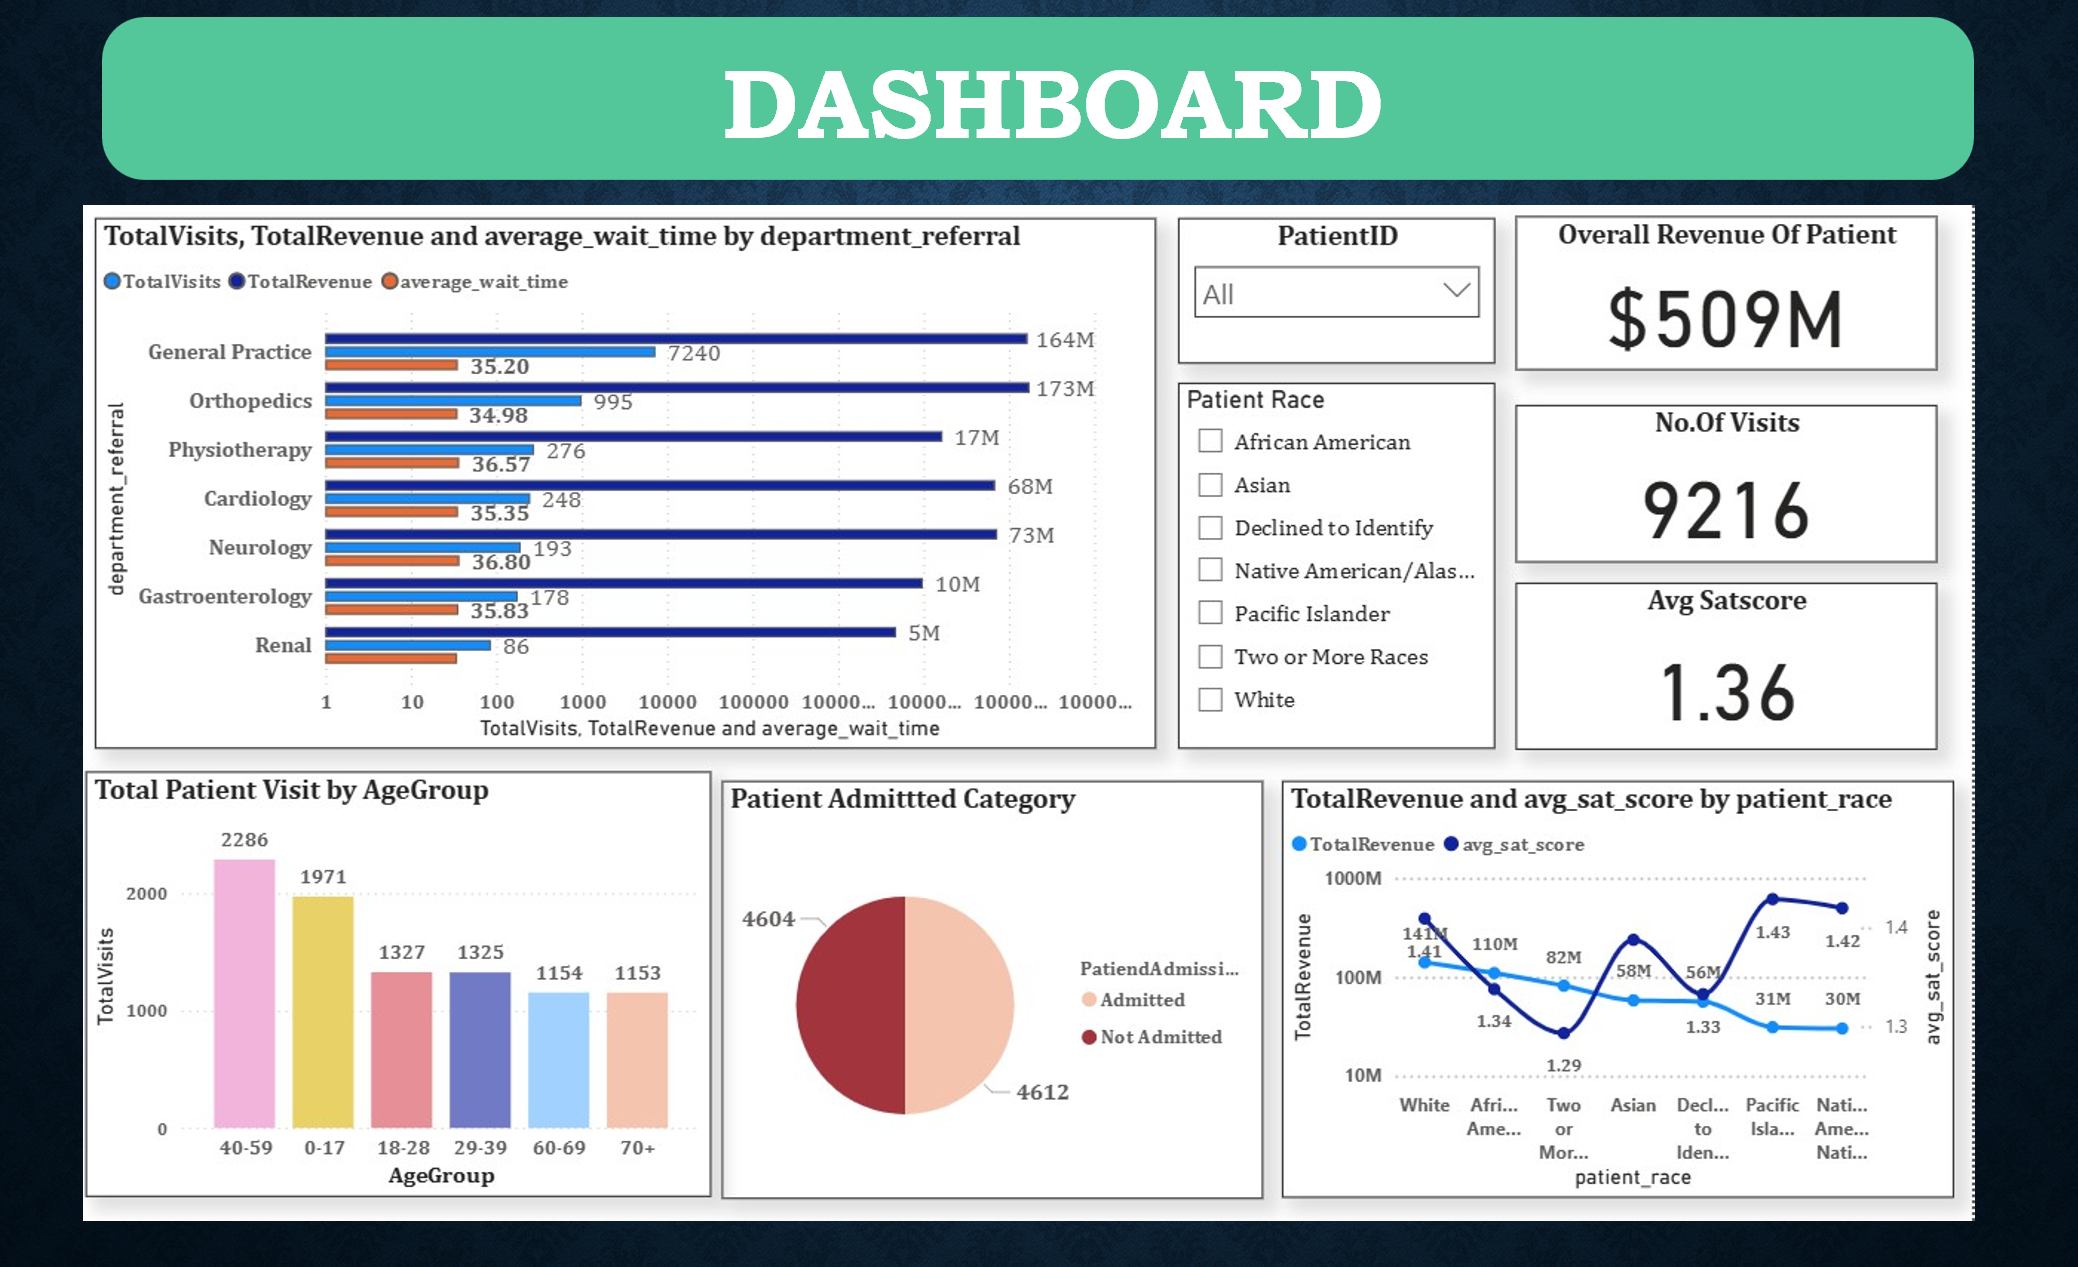

This screenshot's page, from the dashboard's own definition file:
{"tool":"powerbi","page":{"name":"Patients tab","canvas":[1280,720],"ordinal":2},"visuals":[{"type":"slicer","title":"PatientID","fields":{"Values":["Hospital ER (1).patient_id"]},"box":[745,13.8,213.8,98.8],"z":0},{"type":"clusteredBarChart","fields":{"Category":["Hospital ER (1).department_referral"],"Y":["Sheet1.TotalVisits","Sheet1.TotalRevenue","Hospital ER (1).average_wait_time"]},"box":[15,13.8,715,358.8],"z":1000},{"type":"pieChart","title":"Patient Admittted Category","fields":{"Category":["Hospital ER (1).PatiendAdmission"],"Y":["Hospital ER (1).CountOfPatientsAdmitted"]},"box":[437.5,393.8,365,282.5],"z":2000},{"type":"columnChart","title":"Total Patient Visit by AgeGroup","fields":{"Category":["Hospital ER (1).AgeGroup"],"Y":["Sheet1.TotalVisits"]},"box":[8.8,387.5,421.2,287.5],"z":3000},{"type":"lineChart","fields":{"Category":["Hospital ER (1).patient_race"],"Y":["Sheet1.TotalRevenue"],"Y2":["Hospital ER (1).avg_sat_score"]},"box":[815,393.8,452.5,281.2],"z":4000},{"type":"slicer","title":"Patient Race","fields":{"Values":["Hospital ER (1).patient_race"]},"box":[745,125,213.8,247.5],"z":5000},{"type":"card","title":"Overall Revenue Of Patient","fields":{"Values":["Sheet1.TotalRevenue"]},"box":[972.5,12.5,283.8,103.8],"z":6000},{"type":"card","title":"No.Of Visits ","fields":{"Values":["Sheet1.TotalVisits"]},"box":[972.5,140,283.8,106.2],"z":7000},{"type":"card","title":"Avg Satscore","fields":{"Values":["Hospital ER (1).avg_sat_score"]},"box":[972.5,260,283.8,112.5],"z":8000}]}

Visuals, with their boxes on the page's 1280x720 design canvas (x1, y1, x2, y2). These are canvas units, not pixel positions in the 2078x1267 screenshot, which may show the page scaled, cropped or inside an application window:
"PatientID" slicer: bbox=(745, 14, 959, 113)
clusteredBarChart - Hospital ER (1).department_referral x Sheet1.TotalVisits: bbox=(15, 14, 730, 373)
"Patient Admittted Category" pieChart: bbox=(438, 394, 802, 676)
"Total Patient Visit by AgeGroup" columnChart: bbox=(9, 388, 430, 675)
lineChart - Hospital ER (1).patient_race x Sheet1.TotalRevenue: bbox=(815, 394, 1268, 675)
"Patient Race" slicer: bbox=(745, 125, 959, 372)
"Overall Revenue Of Patient" card: bbox=(972, 12, 1256, 116)
"No.Of Visits " card: bbox=(972, 140, 1256, 246)
"Avg Satscore" card: bbox=(972, 260, 1256, 372)
